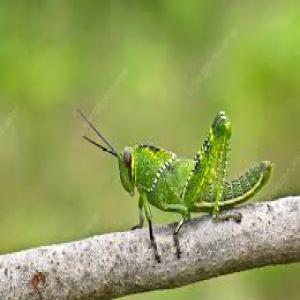locust: (79, 103, 282, 252)
